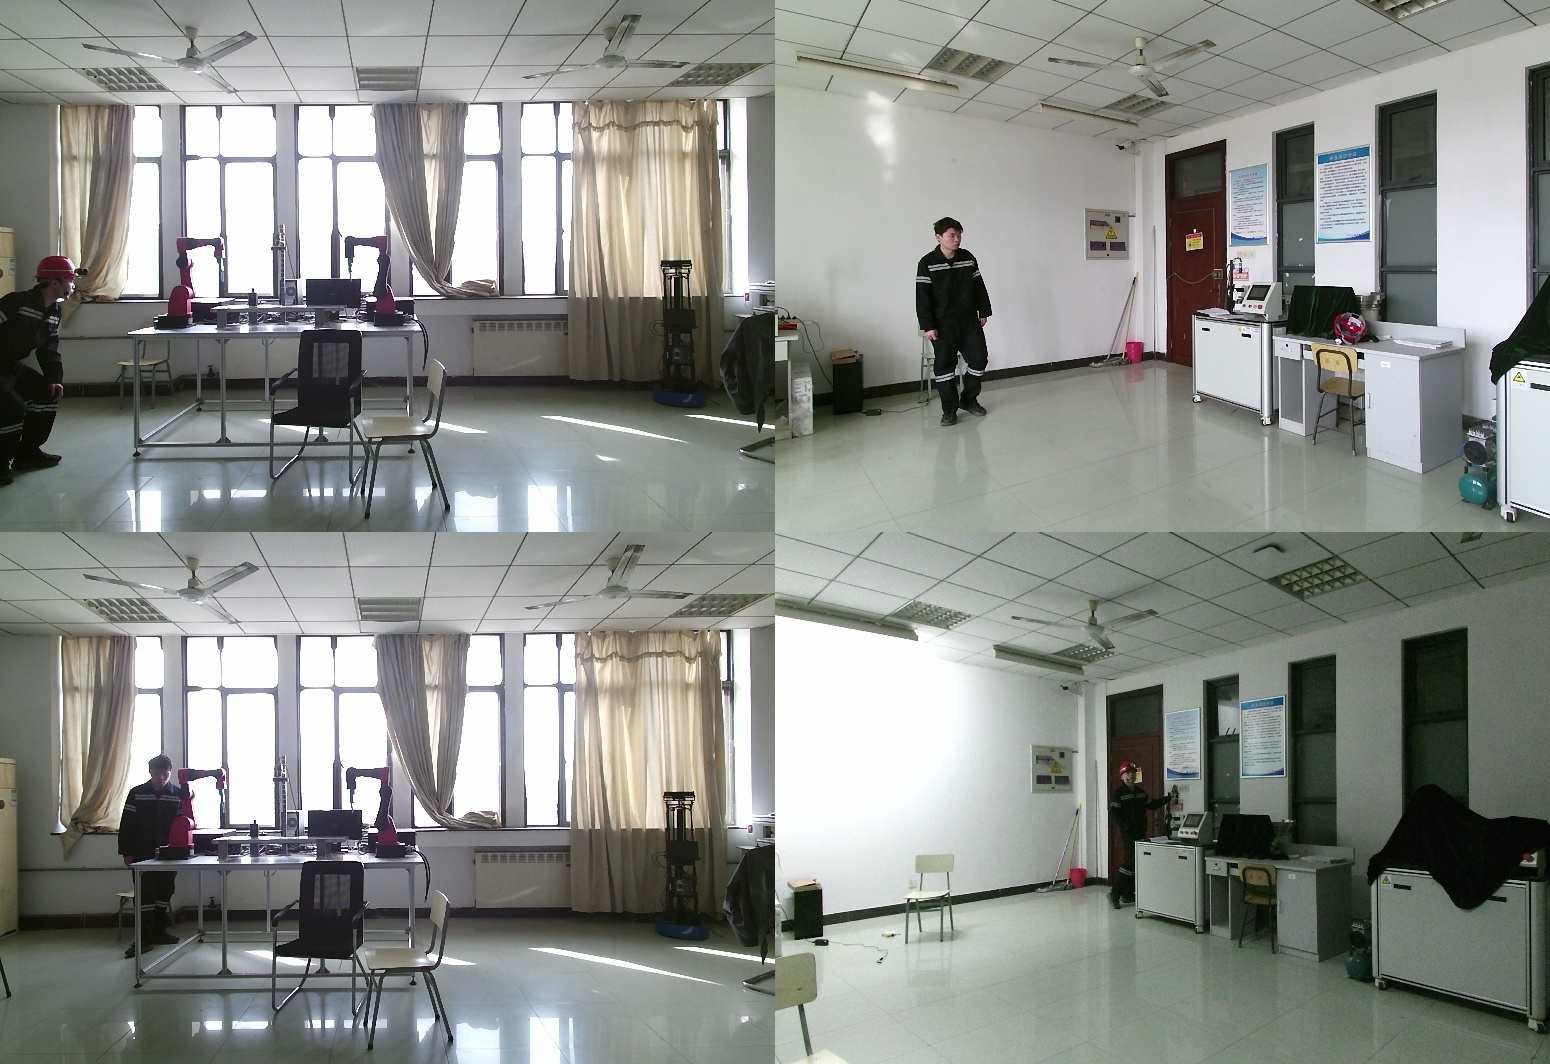person: (908, 217, 1002, 429), (2, 257, 83, 483), (116, 755, 188, 960), (1108, 765, 1167, 912)
